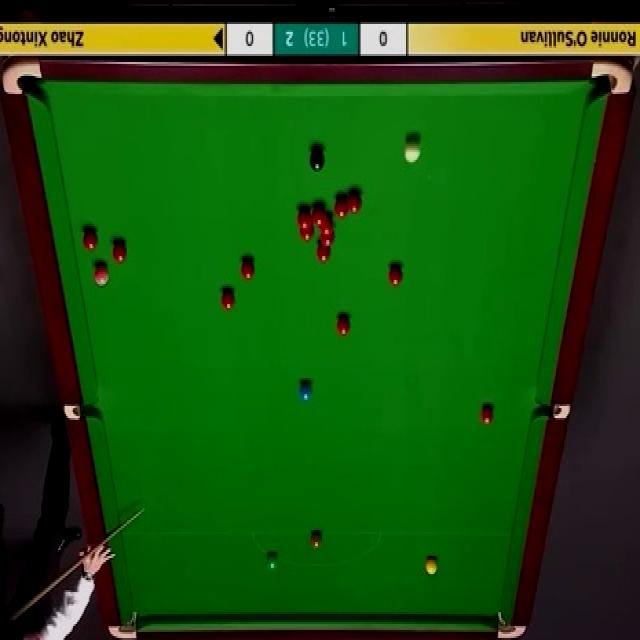black-ball: (309, 144, 325, 174)
blue-ball: (298, 382, 313, 403)
brown-ball: (310, 530, 323, 550)
green-ball: (266, 551, 279, 571)
pink-ball: (93, 262, 109, 288)
red-ball: (387, 261, 404, 288), (346, 191, 362, 216), (81, 228, 98, 251), (333, 192, 349, 216), (110, 240, 126, 264), (297, 205, 312, 230), (241, 256, 256, 280), (220, 288, 235, 312), (480, 404, 496, 426), (336, 314, 351, 336), (312, 205, 326, 227), (316, 246, 332, 263), (320, 216, 334, 234), (320, 232, 334, 248), (300, 227, 314, 240)
white-ball: (404, 140, 423, 166)
yellow-ball: (424, 554, 437, 575)
